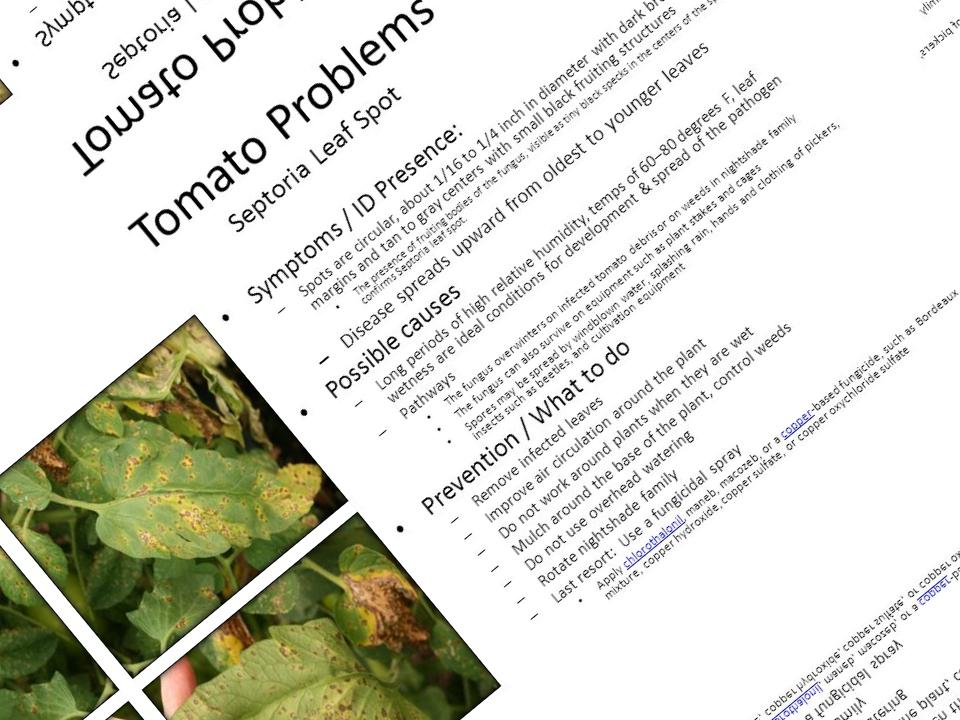Tomato Septoria leaf spot: (52, 349, 337, 629), (166, 589, 430, 720), (288, 523, 451, 693)
